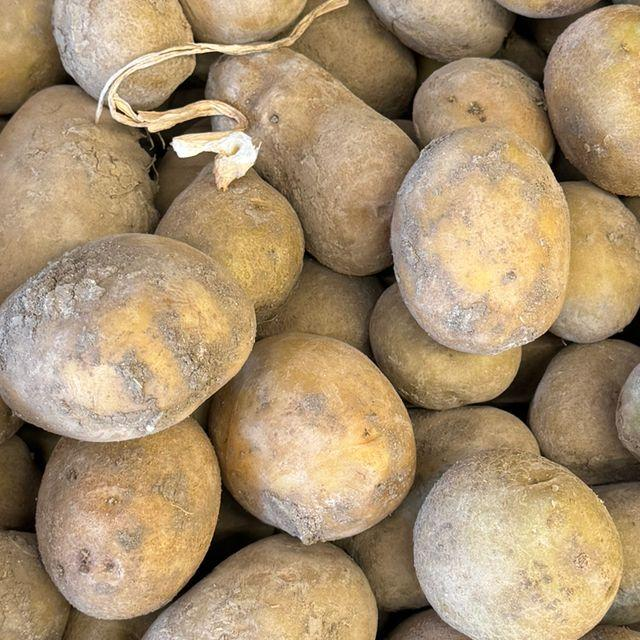potato: (369, 106, 605, 376), (0, 226, 268, 456), (102, 506, 395, 640)
